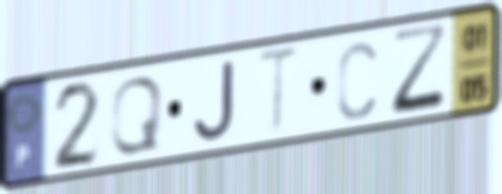2: (51, 78, 105, 172)
C: (334, 38, 380, 125)
J: (190, 57, 237, 146)
Q: (107, 73, 167, 158)
T: (253, 43, 305, 141)
Z: (389, 19, 452, 119)
